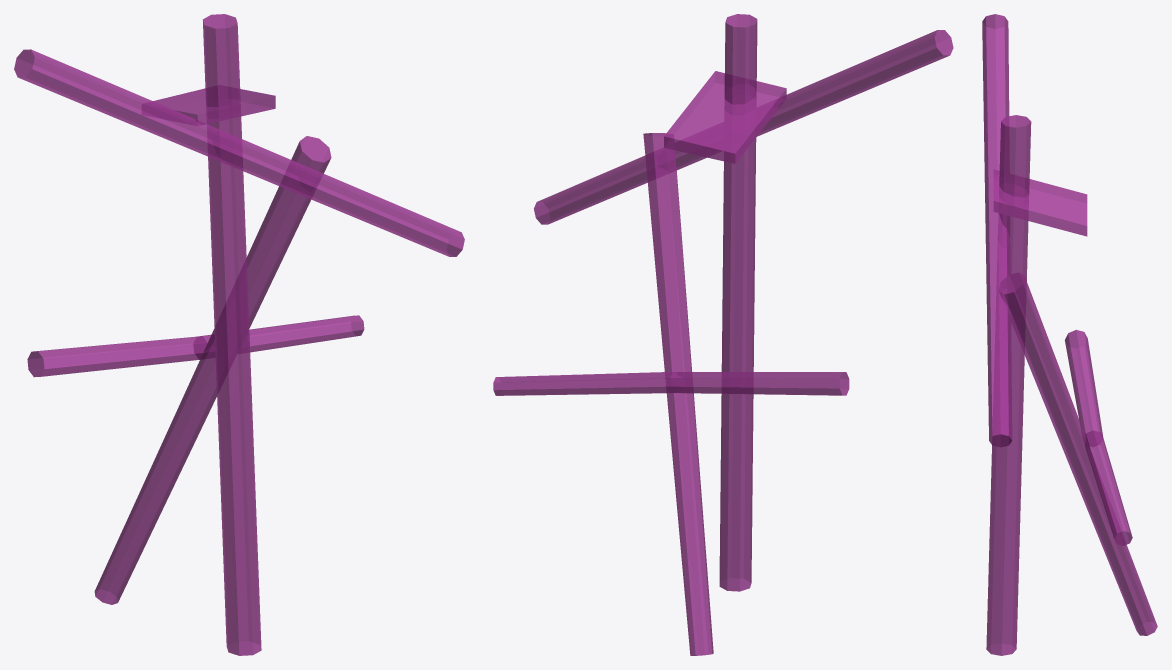
File: SM_Prop_Wreck_Mast_Small_01_Collision.fbx
3 renders of one model, left to right at view 1: azimuth 30°, elevation 25°; view 2: azimuth 150°, elevation 25°; view 3: azimuth 270°, elevation 25°, orthographic. The views are drawn at different scales.
Parts seen in each view (by area): view 1: SM_Prop_Wreck_Mast_Small_01_Collision; view 2: SM_Prop_Wreck_Mast_Small_01_Collision; view 3: SM_Prop_Wreck_Mast_Small_01_Collision.
Boxes of the visible parts, x1,y1,x2,y2 form: SM_Prop_Wreck_Mast_Small_01_Collision: (14,14,464,655); SM_Prop_Wreck_Mast_Small_01_Collision: (493,14,953,655); SM_Prop_Wreck_Mast_Small_01_Collision: (982,14,1157,655).
Bounding box in the file's own units: 1460 × 2056 × 594.
